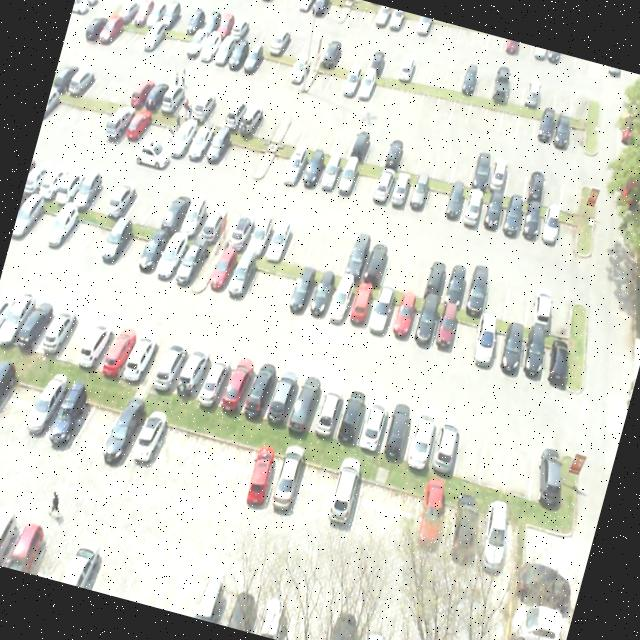empty: (70, 392, 122, 462), (180, 430, 228, 494), (474, 424, 519, 492), (154, 422, 202, 482), (210, 436, 256, 498), (452, 417, 494, 483), (500, 429, 542, 495), (0, 373, 40, 438), (50, 308, 94, 367), (114, 216, 156, 276), (261, 254, 300, 316), (240, 252, 278, 310), (502, 270, 540, 326), (139, 182, 177, 230), (546, 285, 582, 335), (217, 124, 252, 174), (122, 180, 160, 226), (482, 268, 516, 318), (450, 311, 484, 361), (398, 248, 432, 296), (552, 205, 586, 252), (300, 224, 334, 271), (262, 136, 295, 184), (235, 132, 268, 179), (321, 229, 353, 275), (282, 222, 314, 264), (380, 246, 410, 290), (424, 178, 451, 222), (351, 162, 376, 202)
occupied: (40, 387, 95, 456), (17, 382, 68, 448), (96, 401, 146, 468), (523, 434, 570, 500), (262, 453, 308, 519), (193, 346, 240, 410), (125, 411, 173, 472), (31, 300, 76, 362), (238, 444, 280, 508), (220, 245, 262, 308), (403, 408, 445, 470), (284, 372, 324, 437), (74, 314, 117, 374), (133, 217, 174, 279), (332, 384, 372, 447), (428, 414, 470, 474), (96, 320, 138, 378), (218, 354, 259, 413), (150, 228, 190, 288), (240, 362, 280, 422), (380, 401, 419, 461), (537, 328, 578, 385), (117, 329, 158, 386), (174, 340, 214, 398), (172, 232, 210, 292), (356, 390, 394, 450), (97, 210, 135, 269), (262, 367, 300, 426), (308, 379, 346, 437), (202, 242, 237, 302), (492, 319, 530, 374), (460, 258, 497, 314), (152, 338, 190, 391), (303, 271, 338, 326), (472, 316, 507, 370), (524, 278, 560, 330), (282, 265, 316, 320), (157, 188, 193, 238), (515, 328, 550, 379), (323, 278, 357, 330), (364, 288, 398, 340), (408, 297, 441, 350), (442, 256, 474, 310), (429, 306, 462, 358), (184, 116, 218, 166), (202, 122, 236, 172), (422, 248, 454, 301), (386, 294, 418, 346), (198, 202, 234, 248), (168, 112, 202, 160), (178, 196, 214, 241), (240, 212, 274, 258), (347, 283, 377, 334), (360, 236, 390, 286), (265, 215, 297, 259), (339, 235, 370, 280), (315, 150, 344, 198), (225, 210, 258, 252), (518, 198, 547, 244), (298, 148, 326, 195), (332, 157, 361, 202), (404, 172, 433, 216), (498, 198, 528, 240), (282, 144, 310, 188), (534, 205, 564, 246), (460, 188, 487, 229), (368, 166, 394, 208), (442, 183, 468, 224), (479, 192, 506, 231), (387, 170, 413, 208), (0, 367, 16, 426)
